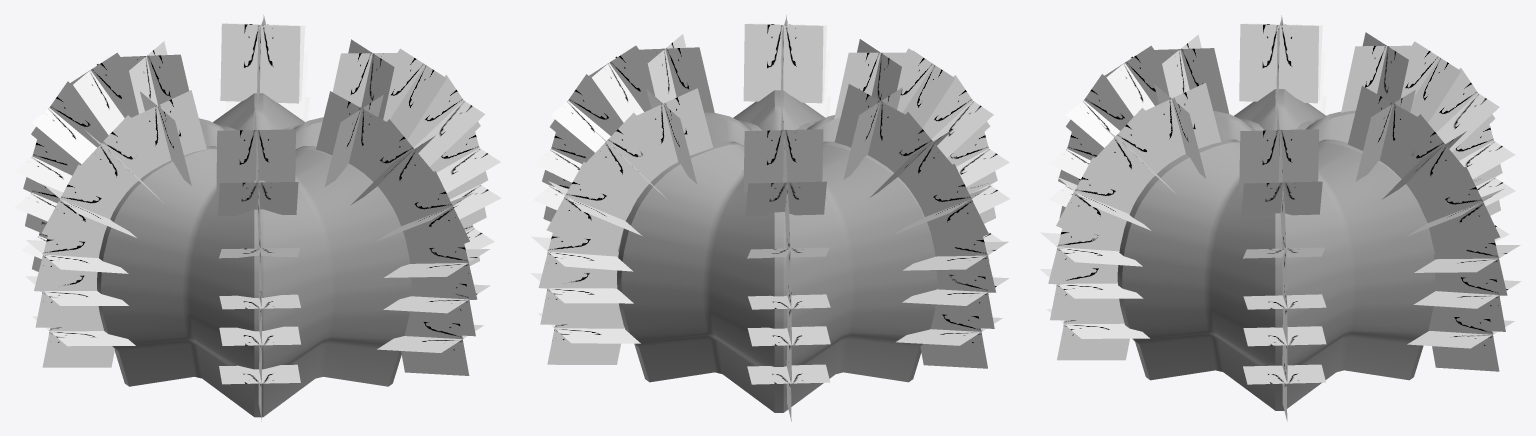
The model's file is Asset_Cactus1.fbx.
3 views of the same model, side by side, from view 1: azimuth 30°, elevation 25°; view 2: azimuth 150°, elevation 25°; view 3: azimuth 270°, elevation 25° (orthographic).
Parts seen in each view (by area): view 1: polySurface228; view 2: polySurface228; view 3: polySurface228.
Boxes of the visible parts, box(x1,y1,x2,y2) form: polySurface228: box(14, 15, 501, 421); polySurface228: box(530, 15, 1009, 421); polySurface228: box(1039, 15, 1521, 421).
Bounding box in the file's own units: 4.45 × 2.62 × 4.09.
